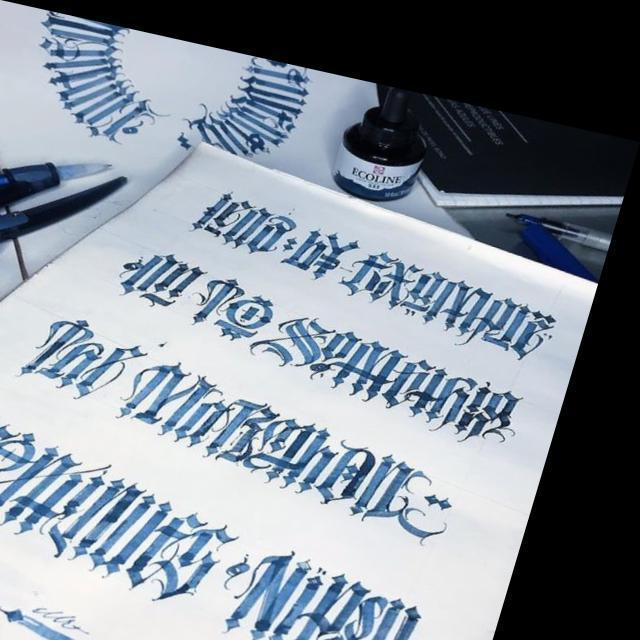-: (0, 137, 546, 640)
